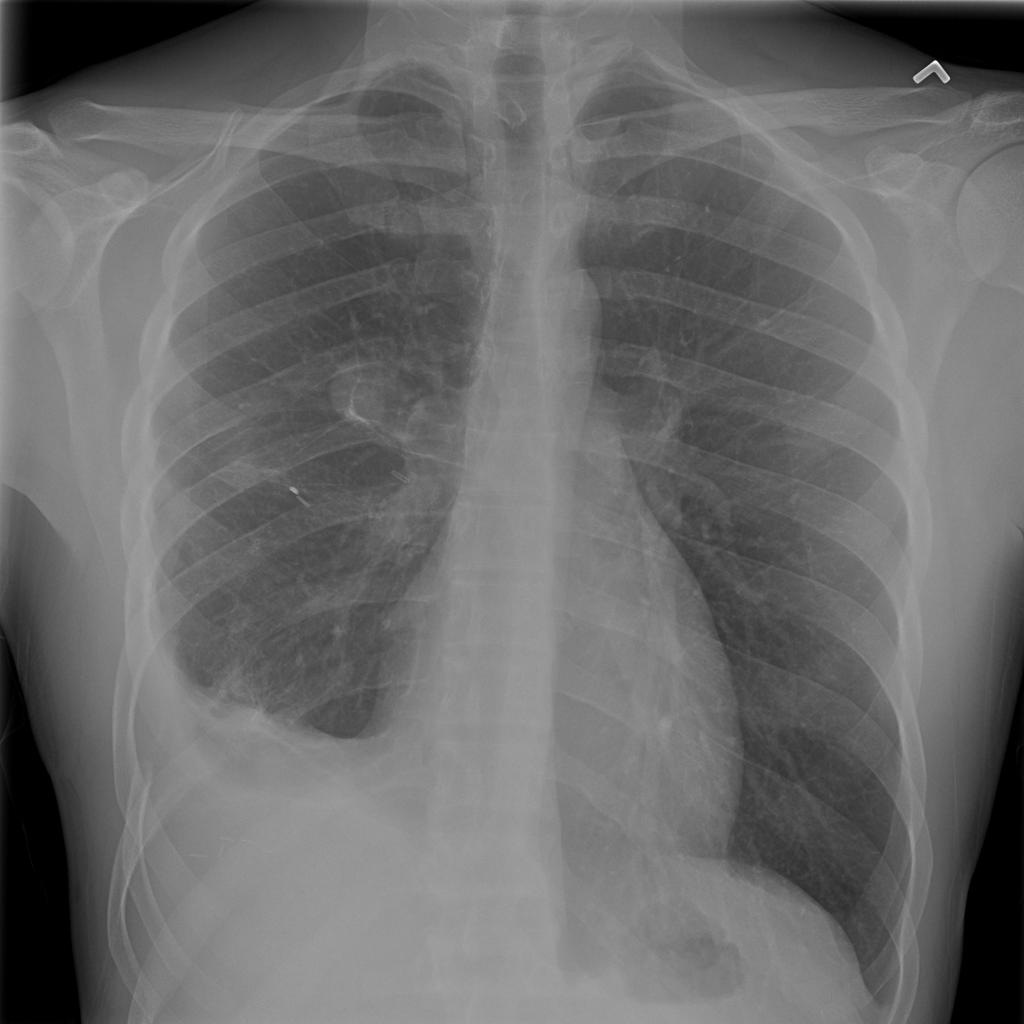nodule: (314, 335, 418, 444)
